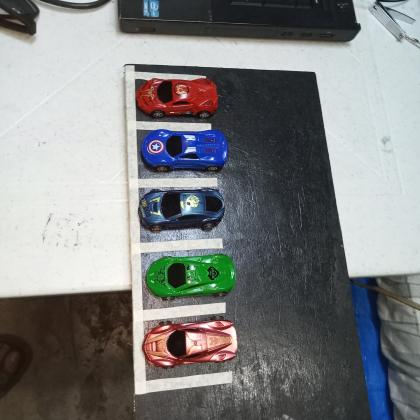Car: (140, 316, 238, 369), (145, 253, 236, 301), (137, 187, 226, 232), (141, 128, 229, 172), (136, 77, 218, 119)
